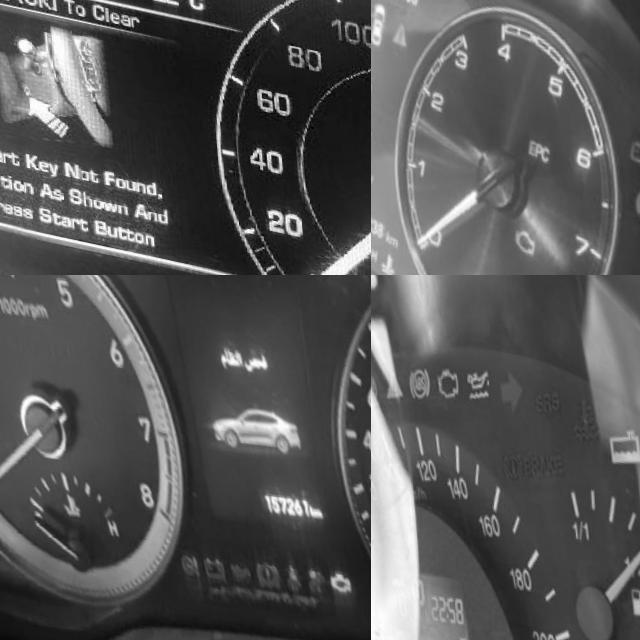Central Warning lamp: (385, 0, 409, 38)
High Engine Coolant Temperature: (566, 374, 602, 429)
